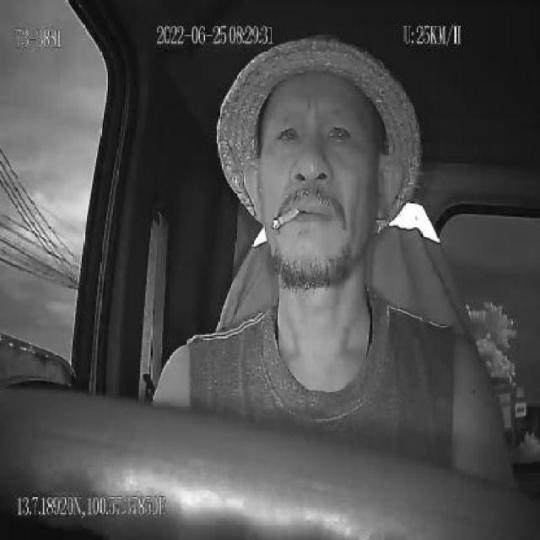smoking: (272, 206, 300, 230)
